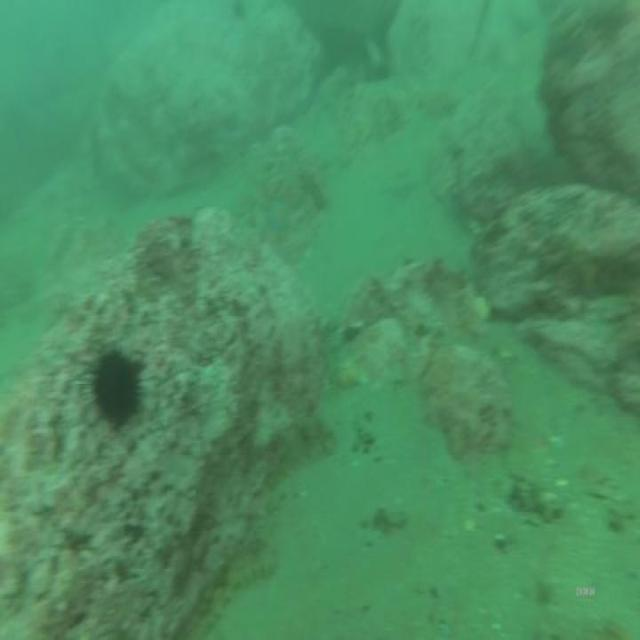echinus: (92, 343, 142, 427)
holothurian: (220, 539, 282, 596), (278, 411, 334, 471)
starfish: (259, 190, 296, 242)
